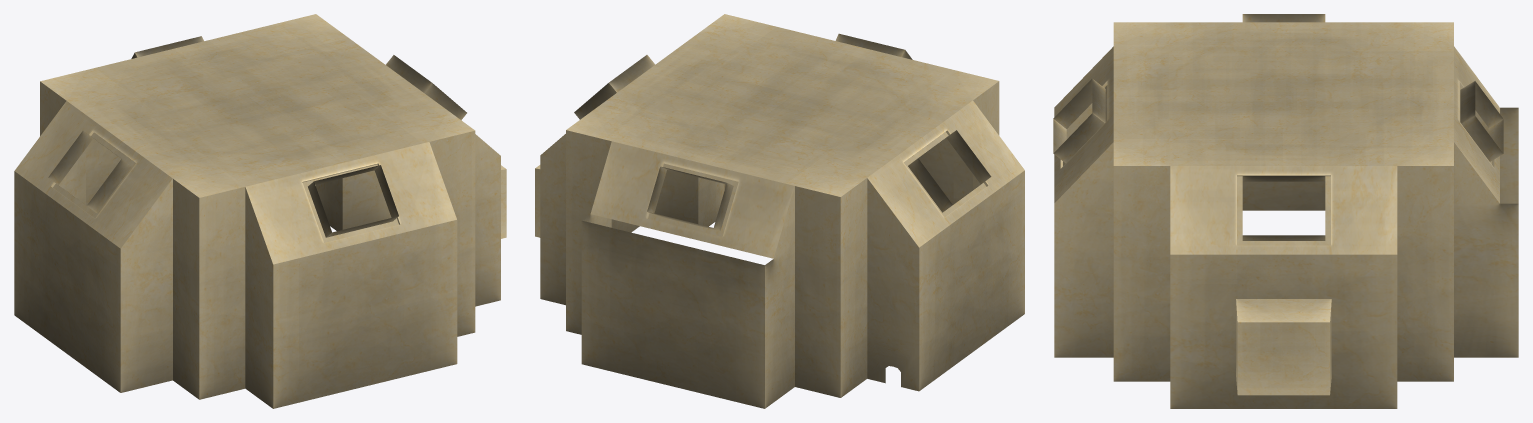
File: Walls_Ceiling.fbx
3 renders of one model, left to right at view 1: azimuth 30°, elevation 25°; view 2: azimuth 150°, elevation 25°; view 3: azimuth 270°, elevation 25°, orthographic. The views are drawn at different scales.
Visible parts, largest first — view 1: Roof, Walls; view 2: Walls, Roof; view 3: Roof, Walls.
Boxes of the visible parts, bbox=[...] form: Roof: bbox=[14, 14, 500, 264]; Walls: bbox=[14, 138, 506, 408]; Walls: bbox=[535, 138, 1024, 408]; Roof: bbox=[541, 14, 1024, 258]; Roof: bbox=[1053, 14, 1503, 254]; Walls: bbox=[1054, 107, 1518, 408].
Bounding box in the file's own units: 1571 × 726 × 1420.
